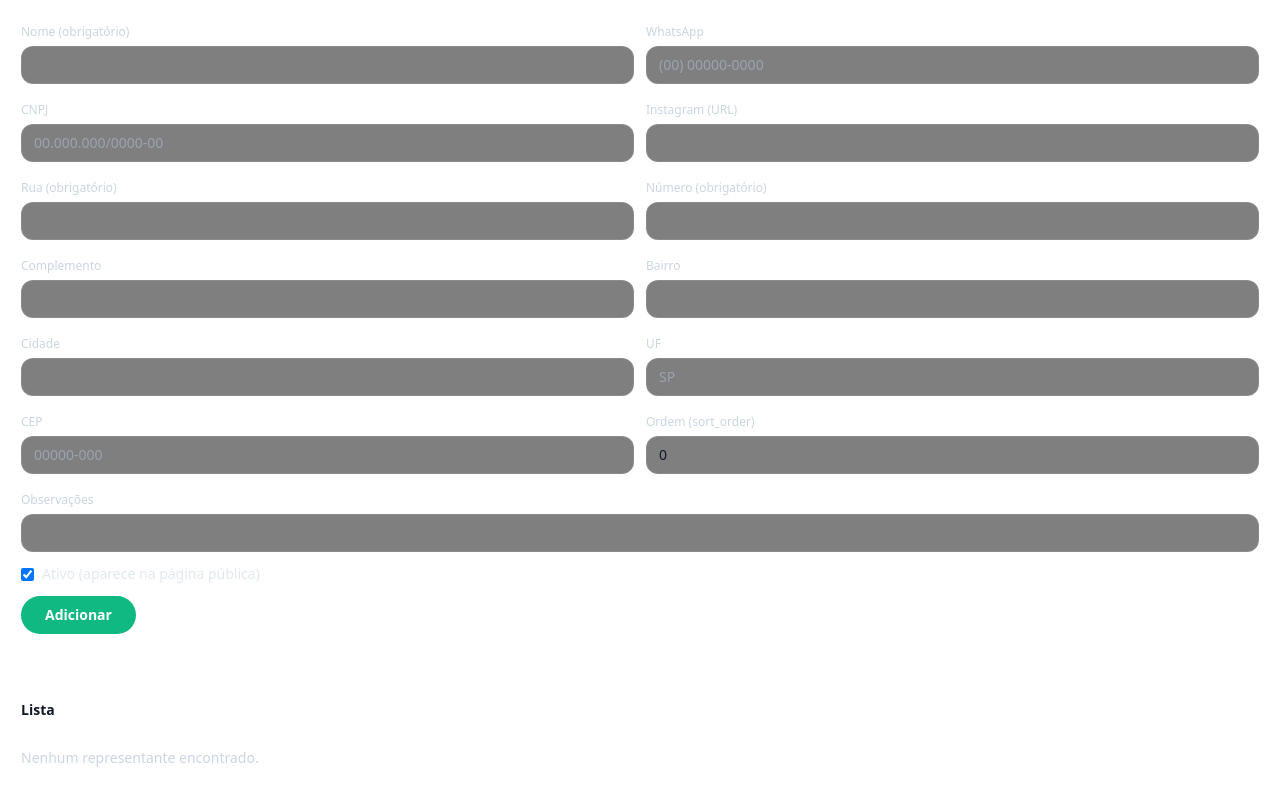
Test: RepresentativeForm › validações do formulário › bloqueia submit quando name está vazio
The image size is (1280, 789).
(page scrolled)
Check: the text "Nenhum representante encontrado." is shown, box top-left (21, 748), bottom-right (259, 767)
Click the button "Adicionar": click(78, 615) top-left (21, 596), bottom-right (136, 634)
(page scrolled)
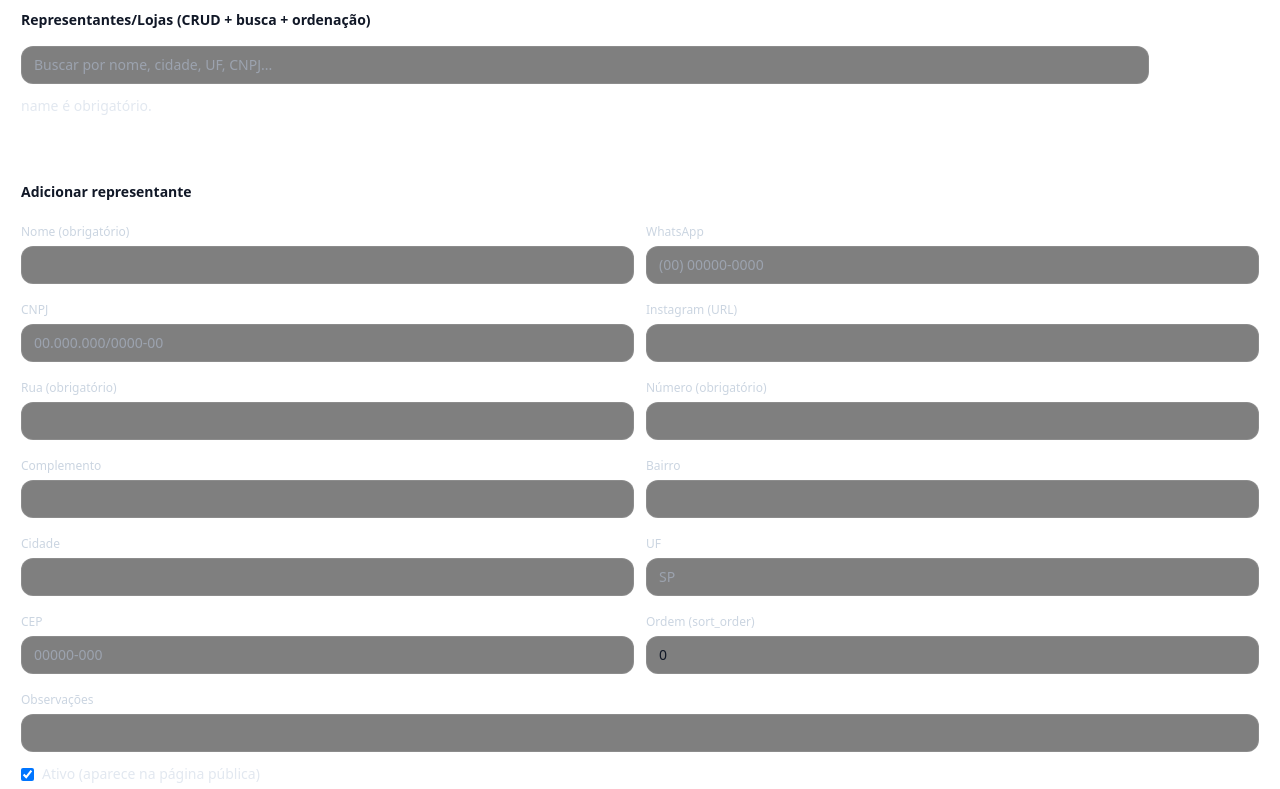
Check: the text "name é obrigatório." is shown, box top-left (21, 96), bottom-right (152, 115)
